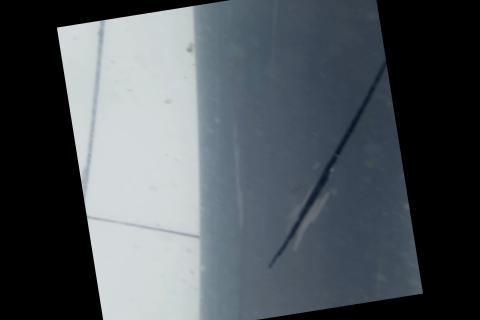keretakan: (238, 59, 415, 266)
